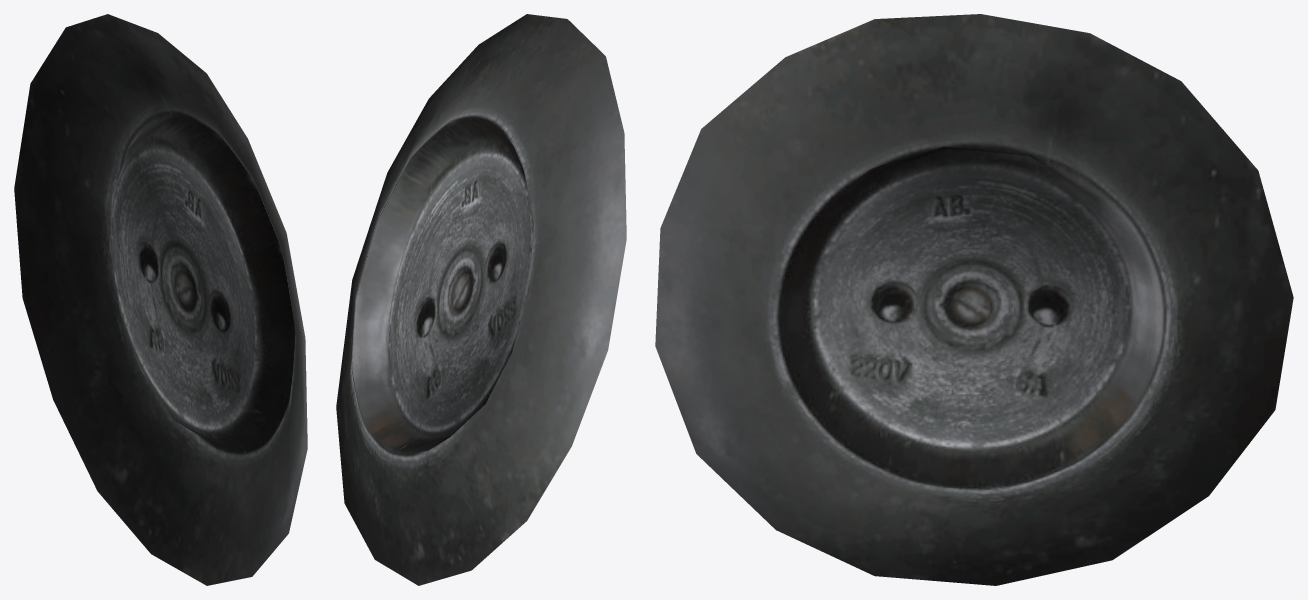
File: Electrical_Socket_01.fbx
The picture shows the model from 3 angles, left to right: view 1: azimuth 30°, elevation 25°; view 2: azimuth 150°, elevation 25°; view 3: azimuth 270°, elevation 25°; orthographic projection. The views are drawn at different scales.
Visible parts, largest first — view 1: Electrical_Socket_01; view 2: Electrical_Socket_01; view 3: Electrical_Socket_01.
Boxes of the visible parts, box(x1,y1,x2,y2) form: Electrical_Socket_01: box(14, 14, 307, 585); Electrical_Socket_01: box(336, 14, 626, 585); Electrical_Socket_01: box(655, 14, 1293, 585).
Bounding box in the file's own units: 1.16 × 13.21 × 13.07.
1 material, 1 textured.
